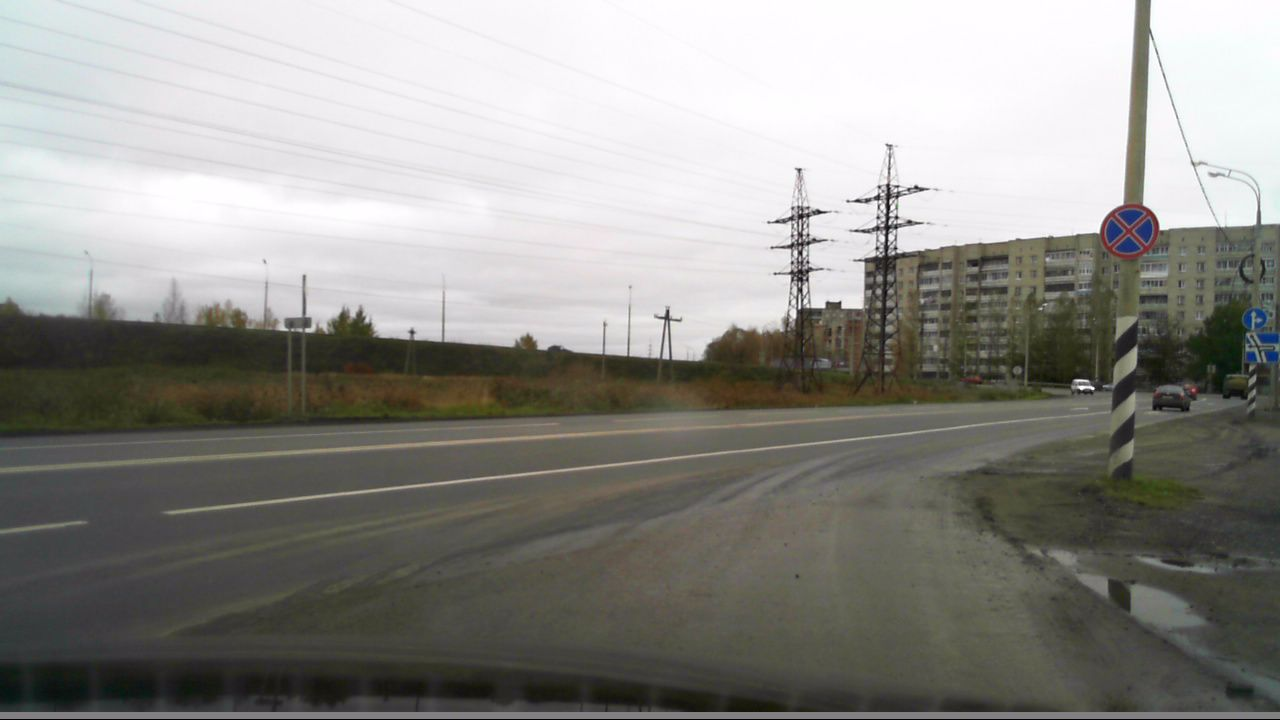No Parking: (1099, 202, 1158, 259)
